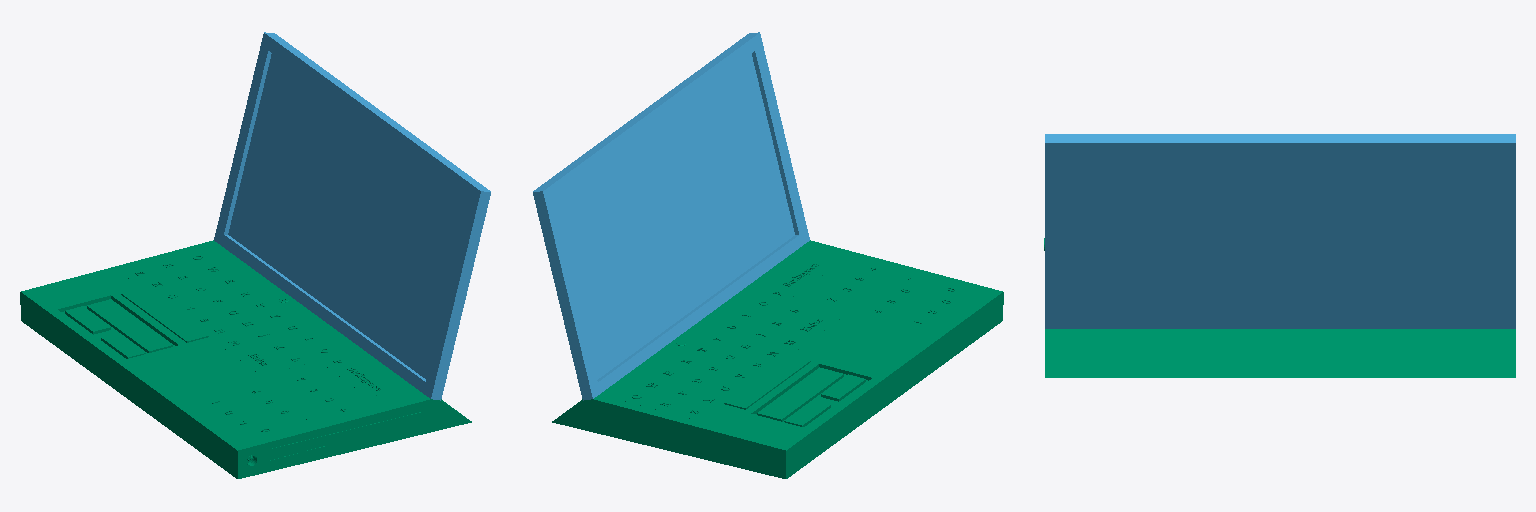
URDF robot description (partnet_aa92ecd31491bca87a88a2ad67bfd073):
<?xml version="1.0" ?>
<robot name="partnet_aa92ecd31491bca87a88a2ad67bfd073">
	<link name="base"/>
	<link name="link_0">
		<visual name="screen-9">
			<origin xyz="-0.3422037721796105 0.0755430000000001 0.18318199999999996"/>
			<geometry>
				<mesh filename="textured_objs/new-2.obj"/>
			</geometry>
		</visual>
		<visual name="screen_frame-10">
			<origin xyz="-0.3422037721796105 0.0755430000000001 0.18318199999999996"/>
			<geometry>
				<mesh filename="textured_objs/new-4.obj"/>
			</geometry>
		</visual>
		<collision>
			<origin xyz="-0.3422037721796105 0.0755430000000001 0.18318199999999996"/>
			<geometry>
				<mesh filename="textured_objs/new-2.obj"/>
			</geometry>
		</collision>
		<collision>
			<origin xyz="-0.3422037721796105 0.0755430000000001 0.18318199999999996"/>
			<geometry>
				<mesh filename="textured_objs/new-4.obj"/>
			</geometry>
		</collision>
	</link>
	<joint name="joint_0" type="revolute">
		<origin xyz="0.3422037721796105 -0.0755430000000001 -0.18318199999999996"/>
		<axis xyz="-0.9603143287827733 0 0"/>
		<child link="link_0"/>
		<parent link="link_1"/>
		<limit lower="-1.8500490071139892" upper="-0.0"/>
	</joint>
	<link name="link_1">
		<visual name="keyboard-3">
			<origin xyz="0 0 0"/>
			<geometry>
				<mesh filename="textured_objs/original-24.obj"/>
			</geometry>
		</visual>
		<visual name="keyboard-3">
			<origin xyz="0 0 0"/>
			<geometry>
				<mesh filename="textured_objs/original-25.obj"/>
			</geometry>
		</visual>
		<visual name="keyboard-3">
			<origin xyz="0 0 0"/>
			<geometry>
				<mesh filename="textured_objs/original-27.obj"/>
			</geometry>
		</visual>
		<visual name="keyboard-3">
			<origin xyz="0 0 0"/>
			<geometry>
				<mesh filename="textured_objs/original-26.obj"/>
			</geometry>
		</visual>
		<visual name="keyboard-3">
			<origin xyz="0 0 0"/>
			<geometry>
				<mesh filename="textured_objs/original-28.obj"/>
			</geometry>
		</visual>
		<visual name="keyboard-3">
			<origin xyz="0 0 0"/>
			<geometry>
				<mesh filename="textured_objs/original-29.obj"/>
			</geometry>
		</visual>
		<visual name="keyboard-3">
			<origin xyz="0 0 0"/>
			<geometry>
				<mesh filename="textured_objs/original-31.obj"/>
			</geometry>
		</visual>
		<visual name="keyboard-3">
			<origin xyz="0 0 0"/>
			<geometry>
				<mesh filename="textured_objs/original-30.obj"/>
			</geometry>
		</visual>
		<visual name="keyboard-3">
			<origin xyz="0 0 0"/>
			<geometry>
				<mesh filename="textured_objs/original-54.obj"/>
			</geometry>
		</visual>
		<visual name="keyboard-3">
			<origin xyz="0 0 0"/>
			<geometry>
				<mesh filename="textured_objs/original-35.obj"/>
			</geometry>
		</visual>
		<visual name="keyboard-3">
			<origin xyz="0 0 0"/>
			<geometry>
				<mesh filename="textured_objs/original-37.obj"/>
			</geometry>
		</visual>
		<visual name="keyboard-3">
			<origin xyz="0 0 0"/>
			<geometry>
				<mesh filename="textured_objs/original-52.obj"/>
			</geometry>
		</visual>
		<visual name="keyboard-3">
			<origin xyz="0 0 0"/>
			<geometry>
				<mesh filename="textured_objs/original-12.obj"/>
			</geometry>
		</visual>
		<visual name="keyboard-3">
			<origin xyz="0 0 0"/>
			<geometry>
				<mesh filename="textured_objs/original-3.obj"/>
			</geometry>
		</visual>
		<visual name="keyboard-3">
			<origin xyz="0 0 0"/>
			<geometry>
				<mesh filename="textured_objs/original-5.obj"/>
			</geometry>
		</visual>
		<visual name="keyboard-3">
			<origin xyz="0 0 0"/>
			<geometry>
				<mesh filename="textured_objs/original-6.obj"/>
			</geometry>
		</visual>
		<visual name="keyboard-3">
			<origin xyz="0 0 0"/>
			<geometry>
				<mesh filename="textured_objs/original-4.obj"/>
			</geometry>
		</visual>
		<visual name="keyboard-3">
			<origin xyz="0 0 0"/>
			<geometry>
				<mesh filename="textured_objs/original-7.obj"/>
			</geometry>
		</visual>
		<visual name="keyboard-3">
			<origin xyz="0 0 0"/>
			<geometry>
				<mesh filename="textured_objs/original-13.obj"/>
			</geometry>
		</visual>
		<visual name="keyboard-3">
			<origin xyz="0 0 0"/>
			<geometry>
				<mesh filename="textured_objs/original-34.obj"/>
			</geometry>
		</visual>
		<visual name="keyboard-3">
			<origin xyz="0 0 0"/>
			<geometry>
				<mesh filename="textured_objs/original-39.obj"/>
			</geometry>
		</visual>
		<visual name="keyboard-3">
			<origin xyz="0 0 0"/>
			<geometry>
				<mesh filename="textured_objs/original-9.obj"/>
			</geometry>
		</visual>
		<visual name="keyboard-3">
			<origin xyz="0 0 0"/>
			<geometry>
				<mesh filename="textured_objs/original-14.obj"/>
			</geometry>
		</visual>
		<visual name="keyboard-3">
			<origin xyz="0 0 0"/>
			<geometry>
				<mesh filename="textured_objs/original-38.obj"/>
			</geometry>
		</visual>
		<visual name="keyboard-3">
			<origin xyz="0 0 0"/>
			<geometry>
				<mesh filename="textured_objs/original-49.obj"/>
			</geometry>
		</visual>
		<visual name="keyboard-3">
			<origin xyz="0 0 0"/>
			<geometry>
				<mesh filename="textured_objs/original-15.obj"/>
			</geometry>
		</visual>
		<visual name="keyboard-3">
			<origin xyz="0 0 0"/>
			<geometry>
				<mesh filename="textured_objs/original-36.obj"/>
			</geometry>
		</visual>
		<visual name="keyboard-3">
			<origin xyz="0 0 0"/>
			<geometry>
				<mesh filename="textured_objs/original-17.obj"/>
			</geometry>
		</visual>
		<visual name="keyboard-3">
			<origin xyz="0 0 0"/>
			<geometry>
				<mesh filename="textured_objs/original-18.obj"/>
			</geometry>
		</visual>
		<visual name="keyboard-3">
			<origin xyz="0 0 0"/>
			<geometry>
				<mesh filename="textured_objs/original-53.obj"/>
			</geometry>
		</visual>
		<visual name="keyboard-3">
			<origin xyz="0 0 0"/>
			<geometry>
				<mesh filename="textured_objs/original-21.obj"/>
			</geometry>
		</visual>
		<visual name="keyboard-3">
			<origin xyz="0 0 0"/>
			<geometry>
				<mesh filename="textured_objs/original-20.obj"/>
			</geometry>
		</visual>
		<visual name="keyboard-3">
			<origin xyz="0 0 0"/>
			<geometry>
				<mesh filename="textured_objs/original-16.obj"/>
			</geometry>
		</visual>
		<visual name="keyboard-3">
			<origin xyz="0 0 0"/>
			<geometry>
				<mesh filename="textured_objs/original-46.obj"/>
			</geometry>
		</visual>
		<visual name="keyboard-3">
			<origin xyz="0 0 0"/>
			<geometry>
				<mesh filename="textured_objs/original-45.obj"/>
			</geometry>
		</visual>
		<visual name="keyboard-3">
			<origin xyz="0 0 0"/>
			<geometry>
				<mesh filename="textured_objs/original-44.obj"/>
			</geometry>
		</visual>
		<visual name="keyboard-3">
			<origin xyz="0 0 0"/>
			<geometry>
				<mesh filename="textured_objs/original-43.obj"/>
			</geometry>
		</visual>
		<visual name="keyboard-3">
			<origin xyz="0 0 0"/>
			<geometry>
				<mesh filename="textured_objs/original-42.obj"/>
			</geometry>
		</visual>
		<visual name="keyboard-3">
			<origin xyz="0 0 0"/>
			<geometry>
				<mesh filename="textured_objs/original-11.obj"/>
			</geometry>
		</visual>
		<visual name="keyboard-3">
			<origin xyz="0 0 0"/>
			<geometry>
				<mesh filename="textured_objs/original-51.obj"/>
			</geometry>
		</visual>
		<visual name="keyboard-3">
			<origin xyz="0 0 0"/>
			<geometry>
				<mesh filename="textured_objs/original-2.obj"/>
			</geometry>
		</visual>
		<visual name="keyboard-3">
			<origin xyz="0 0 0"/>
			<geometry>
				<mesh filename="textured_objs/original-50.obj"/>
			</geometry>
		</visual>
		<visual name="keyboard-3">
			<origin xyz="0 0 0"/>
			<geometry>
				<mesh filename="textured_objs/original-32.obj"/>
			</geometry>
		</visual>
		<visual name="keyboard-3">
			<origin xyz="0 0 0"/>
			<geometry>
				<mesh filename="textured_objs/original-47.obj"/>
			</geometry>
		</visual>
		<visual name="keyboard-3">
			<origin xyz="0 0 0"/>
			<geometry>
				<mesh filename="textured_objs/original-56.obj"/>
			</geometry>
		</visual>
		<visual name="keyboard-3">
			<origin xyz="0 0 0"/>
			<geometry>
				<mesh filename="textured_objs/original-40.obj"/>
			</geometry>
		</visual>
		<visual name="keyboard-3">
			<origin xyz="0 0 0"/>
			<geometry>
				<mesh filename="textured_objs/original-48.obj"/>
			</geometry>
		</visual>
		<visual name="keyboard-3">
			<origin xyz="0 0 0"/>
			<geometry>
				<mesh filename="textured_objs/original-55.obj"/>
			</geometry>
		</visual>
		<visual name="keyboard-3">
			<origin xyz="0 0 0"/>
			<geometry>
				<mesh filename="textured_objs/original-1.obj"/>
			</geometry>
		</visual>
		<visual name="keyboard-3">
			<origin xyz="0 0 0"/>
			<geometry>
				<mesh filename="textured_objs/original-22.obj"/>
			</geometry>
		</visual>
		<visual name="keyboard-3">
			<origin xyz="0 0 0"/>
			<geometry>
				<mesh filename="textured_objs/original-10.obj"/>
			</geometry>
		</visual>
		<visual name="keyboard-3">
			<origin xyz="0 0 0"/>
			<geometry>
				<mesh filename="textured_objs/original-8.obj"/>
			</geometry>
		</visual>
		<visual name="keyboard-3">
			<origin xyz="0 0 0"/>
			<geometry>
				<mesh filename="textured_objs/original-33.obj"/>
			</geometry>
		</visual>
		<visual name="keyboard-3">
			<origin xyz="0 0 0"/>
			<geometry>
				<mesh filename="textured_objs/new-1.obj"/>
			</geometry>
		</visual>
		<visual name="touchpad_surface-6">
			<origin xyz="0 0 0"/>
			<geometry>
				<mesh filename="textured_objs/new-7.obj"/>
			</geometry>
		</visual>
		<visual name="button-7">
			<origin xyz="0 0 0"/>
			<geometry>
				<mesh filename="textured_objs/new-6.obj"/>
			</geometry>
		</visual>
		<visual name="button-8">
			<origin xyz="0 0 0"/>
			<geometry>
				<mesh filename="textured_objs/new-5.obj"/>
			</geometry>
		</visual>
		<visual name="base_frame-5">
			<origin xyz="0 0 0"/>
			<geometry>
				<mesh filename="textured_objs/new-3.obj"/>
			</geometry>
		</visual>
		<collision>
			<origin xyz="0 0 0"/>
			<geometry>
				<mesh filename="textured_objs/original-24.obj"/>
			</geometry>
		</collision>
		<collision>
			<origin xyz="0 0 0"/>
			<geometry>
				<mesh filename="textured_objs/original-25.obj"/>
			</geometry>
		</collision>
		<collision>
			<origin xyz="0 0 0"/>
			<geometry>
				<mesh filename="textured_objs/original-27.obj"/>
			</geometry>
		</collision>
		<collision>
			<origin xyz="0 0 0"/>
			<geometry>
				<mesh filename="textured_objs/original-26.obj"/>
			</geometry>
		</collision>
		<collision>
			<origin xyz="0 0 0"/>
			<geometry>
				<mesh filename="textured_objs/original-28.obj"/>
			</geometry>
		</collision>
		<collision>
			<origin xyz="0 0 0"/>
			<geometry>
				<mesh filename="textured_objs/original-29.obj"/>
			</geometry>
		</collision>
		<collision>
			<origin xyz="0 0 0"/>
			<geometry>
				<mesh filename="textured_objs/original-31.obj"/>
			</geometry>
		</collision>
		<collision>
			<origin xyz="0 0 0"/>
			<geometry>
				<mesh filename="textured_objs/original-30.obj"/>
			</geometry>
		</collision>
		<collision>
			<origin xyz="0 0 0"/>
			<geometry>
				<mesh filename="textured_objs/original-54.obj"/>
			</geometry>
		</collision>
		<collision>
			<origin xyz="0 0 0"/>
			<geometry>
				<mesh filename="textured_objs/original-35.obj"/>
			</geometry>
		</collision>
		<collision>
			<origin xyz="0 0 0"/>
			<geometry>
				<mesh filename="textured_objs/original-37.obj"/>
			</geometry>
		</collision>
		<collision>
			<origin xyz="0 0 0"/>
			<geometry>
				<mesh filename="textured_objs/original-52.obj"/>
			</geometry>
		</collision>
		<collision>
			<origin xyz="0 0 0"/>
			<geometry>
				<mesh filename="textured_objs/original-12.obj"/>
			</geometry>
		</collision>
		<collision>
			<origin xyz="0 0 0"/>
			<geometry>
				<mesh filename="textured_objs/original-3.obj"/>
			</geometry>
		</collision>
		<collision>
			<origin xyz="0 0 0"/>
			<geometry>
				<mesh filename="textured_objs/original-5.obj"/>
			</geometry>
		</collision>
		<collision>
			<origin xyz="0 0 0"/>
			<geometry>
				<mesh filename="textured_objs/original-6.obj"/>
			</geometry>
		</collision>
		<collision>
			<origin xyz="0 0 0"/>
			<geometry>
				<mesh filename="textured_objs/original-4.obj"/>
			</geometry>
		</collision>
		<collision>
			<origin xyz="0 0 0"/>
			<geometry>
				<mesh filename="textured_objs/original-7.obj"/>
			</geometry>
		</collision>
		<collision>
			<origin xyz="0 0 0"/>
			<geometry>
				<mesh filename="textured_objs/original-13.obj"/>
			</geometry>
		</collision>
		<collision>
			<origin xyz="0 0 0"/>
			<geometry>
				<mesh filename="textured_objs/original-34.obj"/>
			</geometry>
		</collision>
		<collision>
			<origin xyz="0 0 0"/>
			<geometry>
				<mesh filename="textured_objs/original-39.obj"/>
			</geometry>
		</collision>
		<collision>
			<origin xyz="0 0 0"/>
			<geometry>
				<mesh filename="textured_objs/original-9.obj"/>
			</geometry>
		</collision>
		<collision>
			<origin xyz="0 0 0"/>
			<geometry>
				<mesh filename="textured_objs/original-14.obj"/>
			</geometry>
		</collision>
		<collision>
			<origin xyz="0 0 0"/>
			<geometry>
				<mesh filename="textured_objs/original-38.obj"/>
			</geometry>
		</collision>
		<collision>
			<origin xyz="0 0 0"/>
			<geometry>
				<mesh filename="textured_objs/original-49.obj"/>
			</geometry>
		</collision>
		<collision>
			<origin xyz="0 0 0"/>
			<geometry>
				<mesh filename="textured_objs/original-15.obj"/>
			</geometry>
		</collision>
		<collision>
			<origin xyz="0 0 0"/>
			<geometry>
				<mesh filename="textured_objs/original-36.obj"/>
			</geometry>
		</collision>
		<collision>
			<origin xyz="0 0 0"/>
			<geometry>
				<mesh filename="textured_objs/original-17.obj"/>
			</geometry>
		</collision>
		<collision>
			<origin xyz="0 0 0"/>
			<geometry>
				<mesh filename="textured_objs/original-18.obj"/>
			</geometry>
		</collision>
		<collision>
			<origin xyz="0 0 0"/>
			<geometry>
				<mesh filename="textured_objs/original-53.obj"/>
			</geometry>
		</collision>
		<collision>
			<origin xyz="0 0 0"/>
			<geometry>
				<mesh filename="textured_objs/original-21.obj"/>
			</geometry>
		</collision>
		<collision>
			<origin xyz="0 0 0"/>
			<geometry>
				<mesh filename="textured_objs/original-20.obj"/>
			</geometry>
		</collision>
		<collision>
			<origin xyz="0 0 0"/>
			<geometry>
				<mesh filename="textured_objs/original-16.obj"/>
			</geometry>
		</collision>
		<collision>
			<origin xyz="0 0 0"/>
			<geometry>
				<mesh filename="textured_objs/original-46.obj"/>
			</geometry>
		</collision>
		<collision>
			<origin xyz="0 0 0"/>
			<geometry>
				<mesh filename="textured_objs/original-45.obj"/>
			</geometry>
		</collision>
		<collision>
			<origin xyz="0 0 0"/>
			<geometry>
				<mesh filename="textured_objs/original-44.obj"/>
			</geometry>
		</collision>
		<collision>
			<origin xyz="0 0 0"/>
			<geometry>
				<mesh filename="textured_objs/original-43.obj"/>
			</geometry>
		</collision>
		<collision>
			<origin xyz="0 0 0"/>
			<geometry>
				<mesh filename="textured_objs/original-42.obj"/>
			</geometry>
		</collision>
		<collision>
			<origin xyz="0 0 0"/>
			<geometry>
				<mesh filename="textured_objs/original-11.obj"/>
			</geometry>
		</collision>
		<collision>
			<origin xyz="0 0 0"/>
			<geometry>
				<mesh filename="textured_objs/original-51.obj"/>
			</geometry>
		</collision>
		<collision>
			<origin xyz="0 0 0"/>
			<geometry>
				<mesh filename="textured_objs/original-2.obj"/>
			</geometry>
		</collision>
		<collision>
			<origin xyz="0 0 0"/>
			<geometry>
				<mesh filename="textured_objs/original-50.obj"/>
			</geometry>
		</collision>
		<collision>
			<origin xyz="0 0 0"/>
			<geometry>
				<mesh filename="textured_objs/original-32.obj"/>
			</geometry>
		</collision>
		<collision>
			<origin xyz="0 0 0"/>
			<geometry>
				<mesh filename="textured_objs/original-47.obj"/>
			</geometry>
		</collision>
		<collision>
			<origin xyz="0 0 0"/>
			<geometry>
				<mesh filename="textured_objs/original-56.obj"/>
			</geometry>
		</collision>
		<collision>
			<origin xyz="0 0 0"/>
			<geometry>
				<mesh filename="textured_objs/original-40.obj"/>
			</geometry>
		</collision>
		<collision>
			<origin xyz="0 0 0"/>
			<geometry>
				<mesh filename="textured_objs/original-48.obj"/>
			</geometry>
		</collision>
		<collision>
			<origin xyz="0 0 0"/>
			<geometry>
				<mesh filename="textured_objs/original-55.obj"/>
			</geometry>
		</collision>
		<collision>
			<origin xyz="0 0 0"/>
			<geometry>
				<mesh filename="textured_objs/original-1.obj"/>
			</geometry>
		</collision>
		<collision>
			<origin xyz="0 0 0"/>
			<geometry>
				<mesh filename="textured_objs/original-22.obj"/>
			</geometry>
		</collision>
		<collision>
			<origin xyz="0 0 0"/>
			<geometry>
				<mesh filename="textured_objs/original-10.obj"/>
			</geometry>
		</collision>
		<collision>
			<origin xyz="0 0 0"/>
			<geometry>
				<mesh filename="textured_objs/original-8.obj"/>
			</geometry>
		</collision>
		<collision>
			<origin xyz="0 0 0"/>
			<geometry>
				<mesh filename="textured_objs/original-33.obj"/>
			</geometry>
		</collision>
		<collision>
			<origin xyz="0 0 0"/>
			<geometry>
				<mesh filename="textured_objs/new-1.obj"/>
			</geometry>
		</collision>
		<collision>
			<origin xyz="0 0 0"/>
			<geometry>
				<mesh filename="textured_objs/new-7.obj"/>
			</geometry>
		</collision>
		<collision>
			<origin xyz="0 0 0"/>
			<geometry>
				<mesh filename="textured_objs/new-6.obj"/>
			</geometry>
		</collision>
		<collision>
			<origin xyz="0 0 0"/>
			<geometry>
				<mesh filename="textured_objs/new-5.obj"/>
			</geometry>
		</collision>
		<collision>
			<origin xyz="0 0 0"/>
			<geometry>
				<mesh filename="textured_objs/new-3.obj"/>
			</geometry>
		</collision>
	</link>
	<joint name="joint_1" type="fixed">
		<origin rpy="1.570796326794897 0 -1.570796326794897" xyz="0 0 0"/>
		<child link="link_1"/>
		<parent link="base"/>
	</joint>
</robot>

--- Facts derived from the render (not from the file) ---
The picture shows the robot from 3 angles, left to right: view 1: azimuth 30°, elevation 25°; view 2: azimuth 150°, elevation 25°; view 3: azimuth 270°, elevation 25°; orthographic projection.
Robot: partnet_aa92ecd31491bca87a88a2ad67bfd073 — 3 links, 2 joints (1 revolute, 1 fixed); root link base; default pose: all joints at 0.
Links seen in each view (by area): view 1: link_0, link_1; view 2: link_0, link_1; view 3: link_0, link_1.
Boxes of the visible links, <box> form: link_0: <box>214,32,490,400</box>; link_1: <box>20,240,471,478</box>; link_0: <box>533,32,809,400</box>; link_1: <box>552,240,1003,478</box>; link_0: <box>1045,134,1515,328</box>; link_1: <box>1044,238,1515,377</box>.
Size in the robot's own frame: 0.9893 by 1.47 by 0.8522 metres.
Meshes: 60 distinct files referenced, 60 mesh visuals loaded (60 OBJ).
